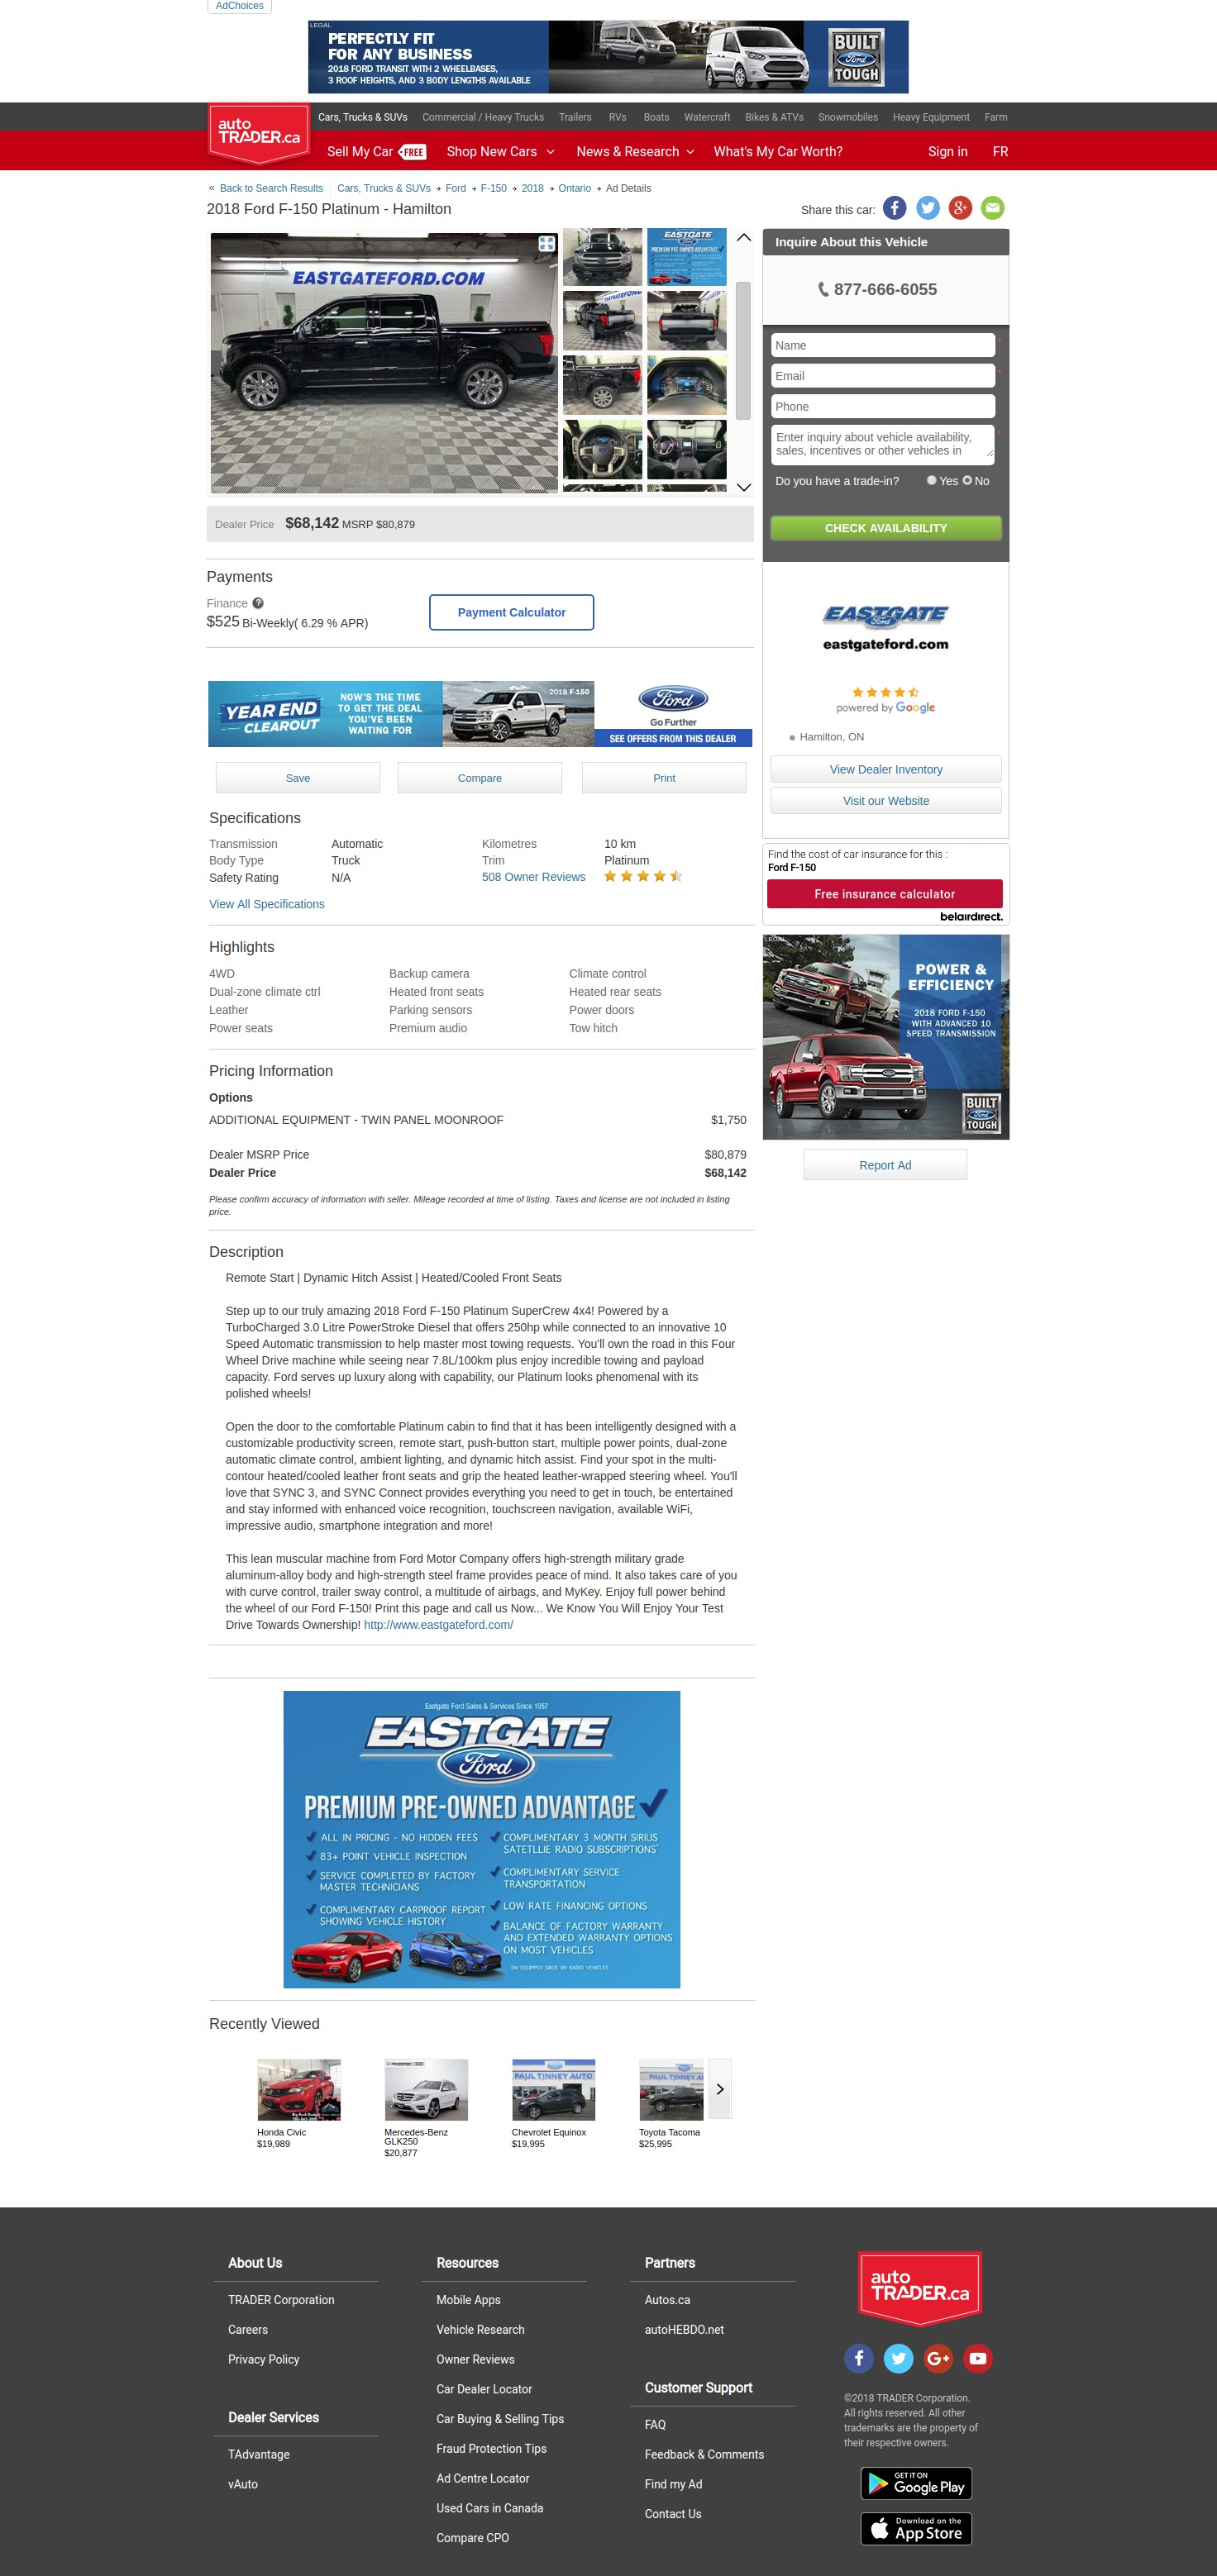car: (735, 483, 753, 493)
